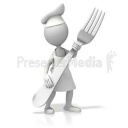Fork: (32, 6, 111, 110)
